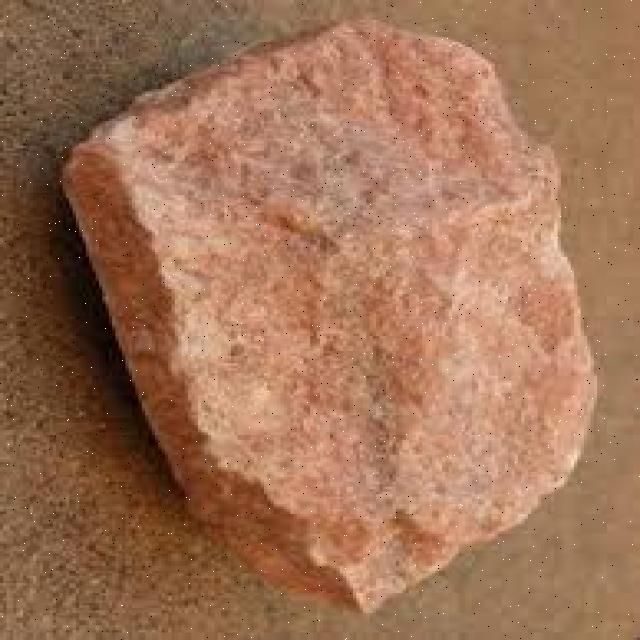Metamorphic: (52, 20, 604, 613)
